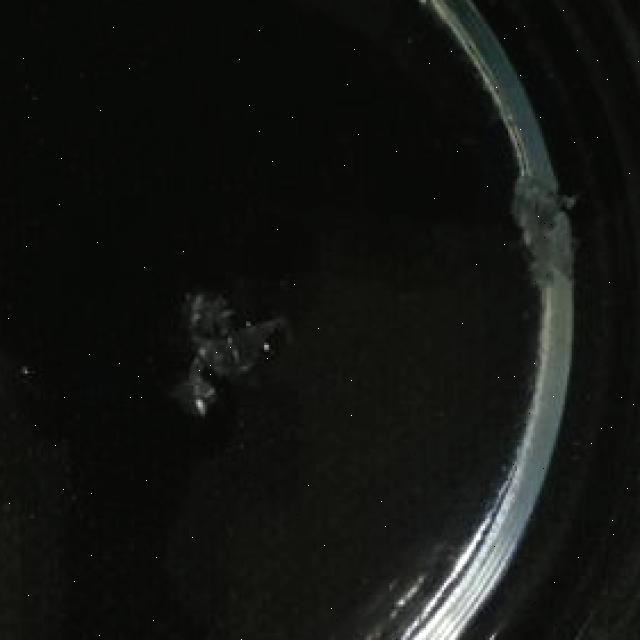Microplastic: (178, 286, 303, 433), (499, 178, 594, 290)
